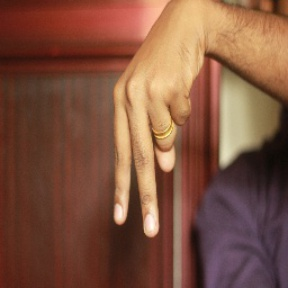Y: (108, 31, 199, 241)
